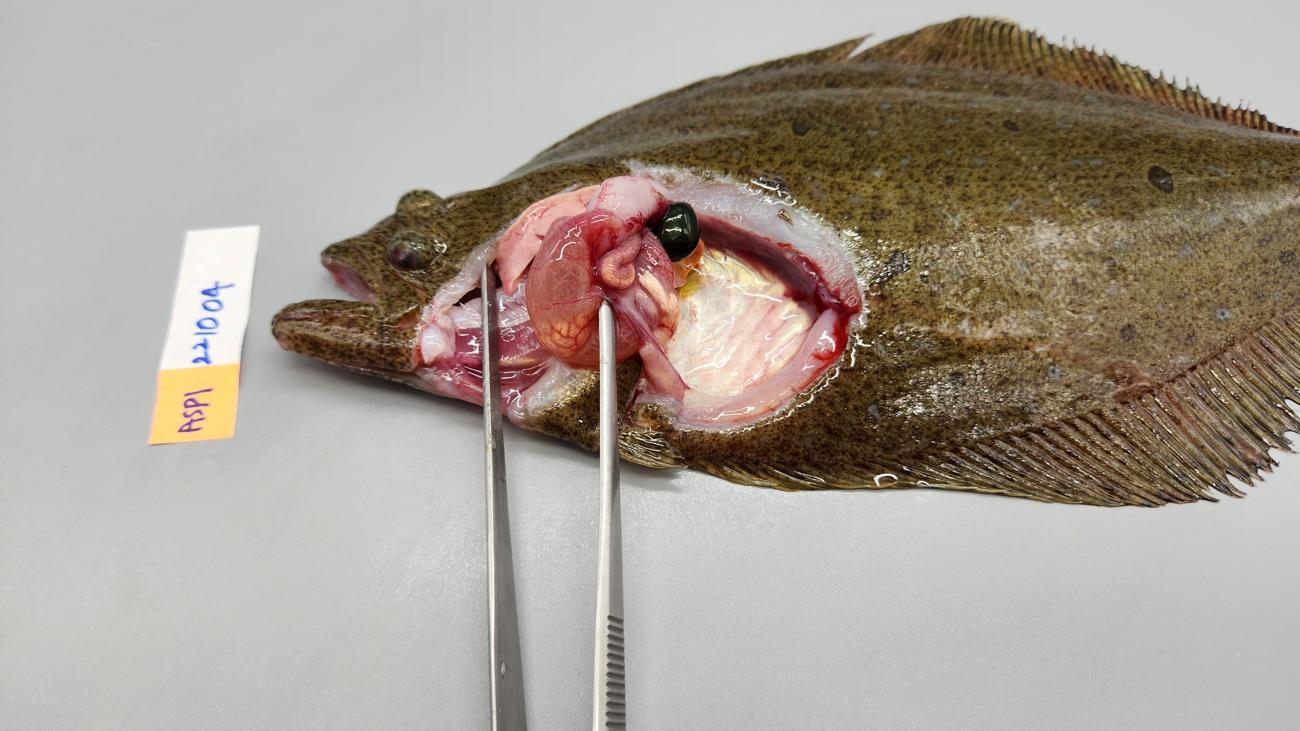SPINI: (600, 255, 680, 350)
